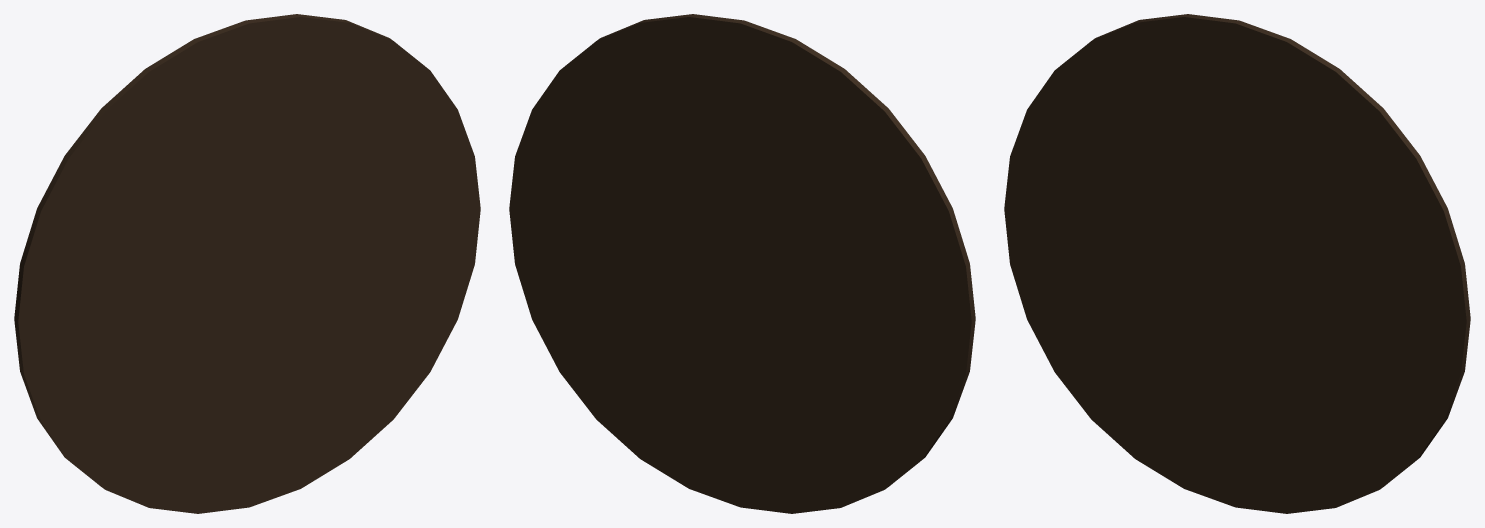
The model's file is ishaft-cover-gasket.glb.
3 renders of one model, left to right at view 1: azimuth 30°, elevation 25°; view 2: azimuth 150°, elevation 25°; view 3: azimuth 330°, elevation 25°, orthographic.
Visible parts, largest first — view 1: ishaft-cover-gasket:gasket; view 2: ishaft-cover-gasket:gasket; view 3: ishaft-cover-gasket:gasket.
Part boxes in pixels (box(x1,y1,x2,y2)): ishaft-cover-gasket:gasket: box(14, 14, 480, 513); ishaft-cover-gasket:gasket: box(509, 14, 975, 513); ishaft-cover-gasket:gasket: box(1004, 14, 1470, 513).
Size of the model in its own units: 40 by 40 by 0.6006.
